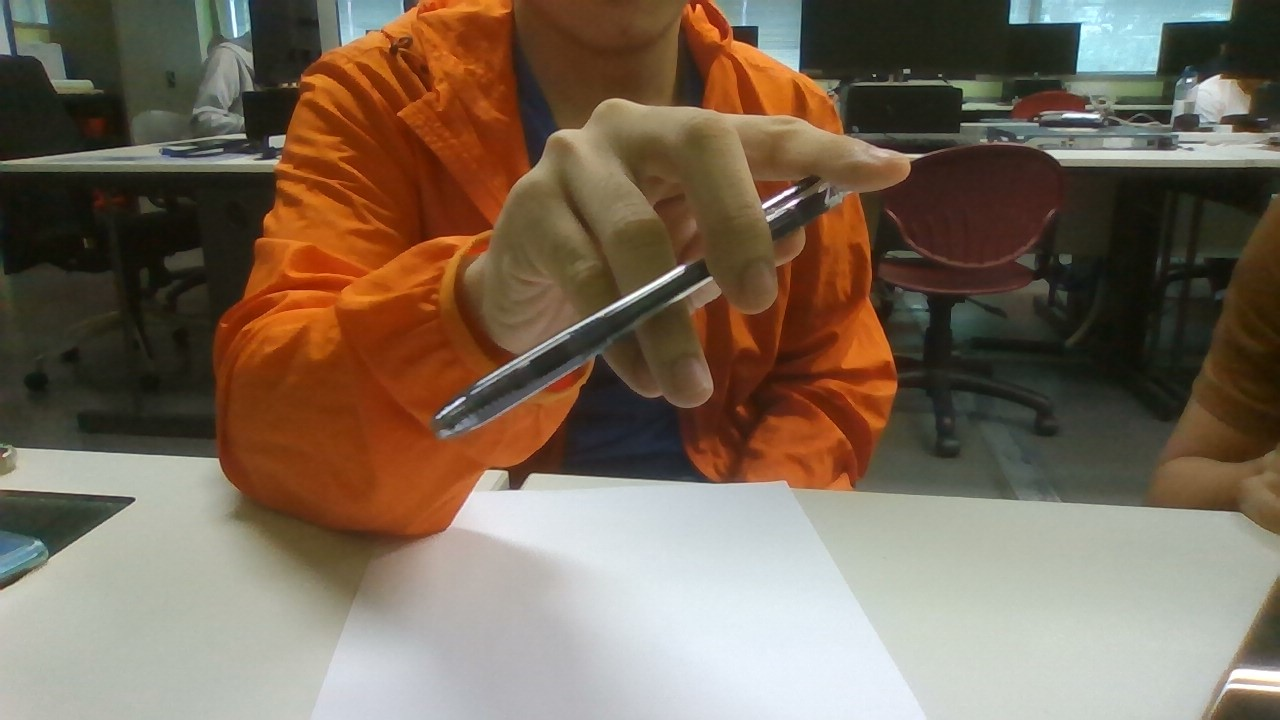pen: (432, 174, 858, 439)
